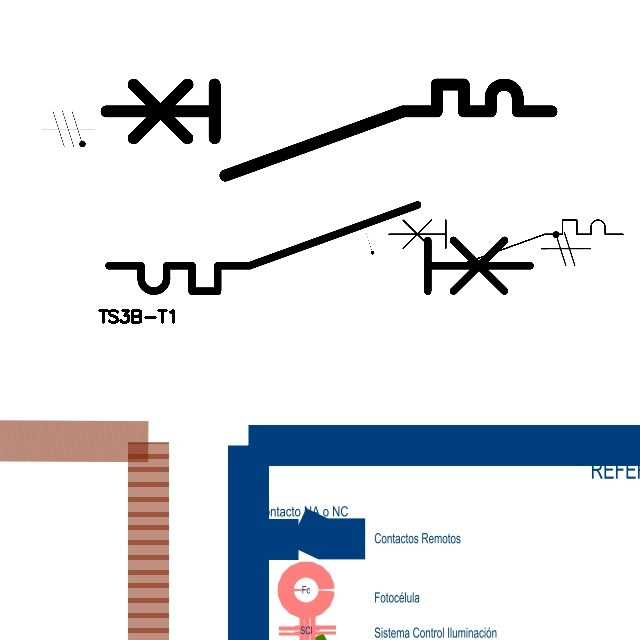interruptor_termomagnetico: (94, 73, 562, 187), (98, 194, 541, 302), (382, 214, 628, 274)
